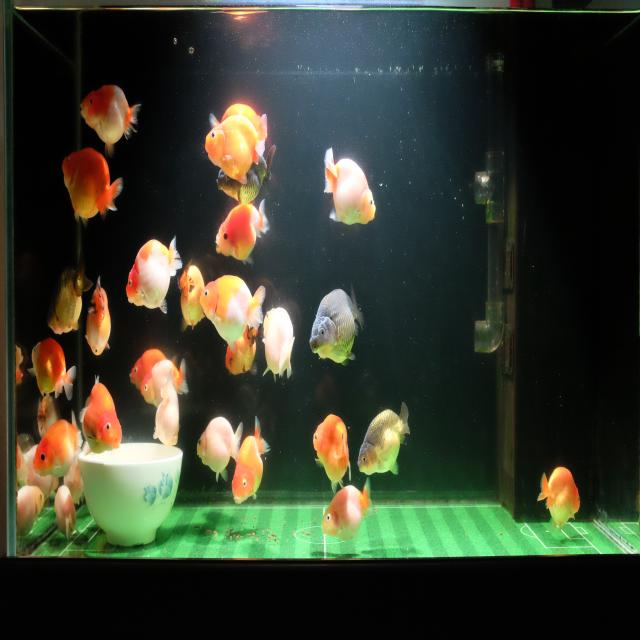Goldfish: (198, 272, 265, 357), (80, 81, 142, 162), (60, 147, 124, 225), (203, 111, 268, 186), (308, 283, 366, 367), (126, 232, 182, 318), (322, 146, 378, 230), (45, 244, 93, 336), (356, 401, 411, 477), (214, 195, 271, 267), (214, 146, 278, 207), (232, 415, 272, 512), (79, 372, 123, 458), (30, 409, 83, 480), (320, 479, 374, 546), (27, 337, 78, 404), (312, 410, 353, 492), (196, 414, 243, 484), (538, 463, 581, 538), (260, 303, 295, 384), (140, 357, 188, 409), (177, 256, 207, 339), (84, 274, 112, 360), (150, 368, 180, 448), (129, 345, 178, 391), (223, 322, 260, 378), (16, 482, 45, 542), (53, 484, 79, 543)
